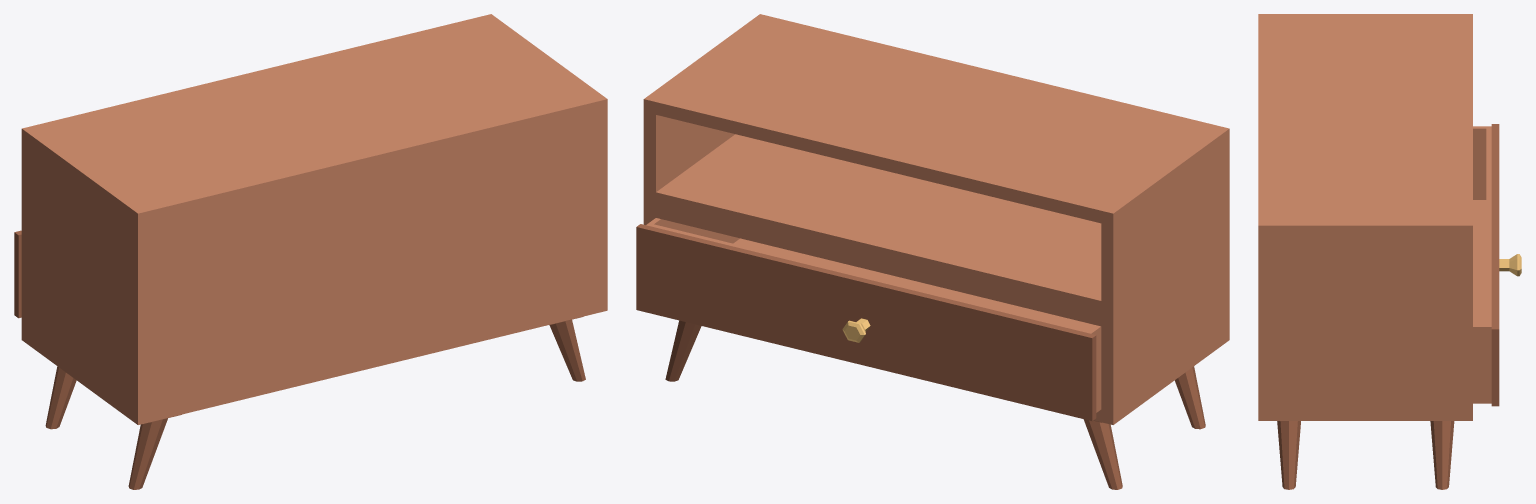
Rendered from TV_stand.fbx.
3 renders of one model, left to right at view 1: azimuth 30°, elevation 25°; view 2: azimuth 150°, elevation 25°; view 3: azimuth 270°, elevation 25°, orthographic. The views are drawn at different scales.
Parts seen in each view (by area): view 1: Plane.086, Plane.087; view 2: Plane.086, Plane.087; view 3: Plane.086, Plane.087.
Boxes of the visible parts, bbox=[...] form: Plane.086: bbox=[21, 14, 607, 489]; Plane.087: bbox=[14, 230, 21, 318]; Plane.086: bbox=[643, 14, 1229, 489]; Plane.087: bbox=[636, 218, 1101, 420]; Plane.086: bbox=[1258, 14, 1472, 489]; Plane.087: bbox=[1473, 124, 1521, 406].
Size of the model in its own units: 2.27 by 1.19 by 1.33.
